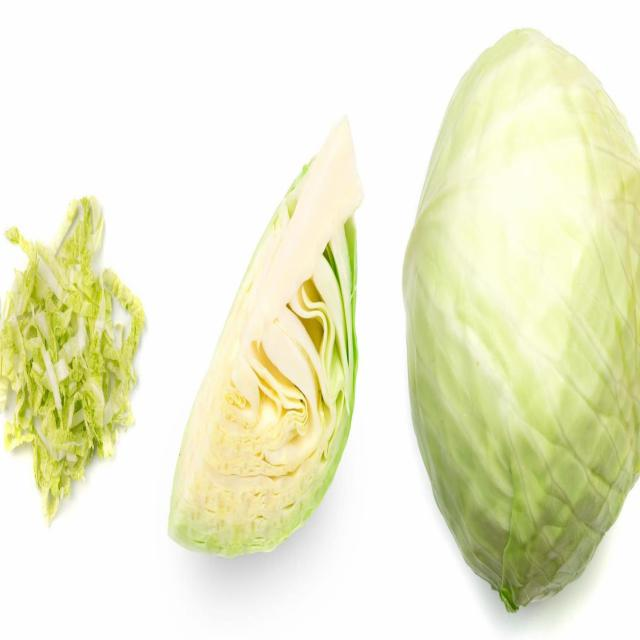cabbage: (400, 18, 639, 613), (163, 103, 371, 556), (0, 179, 167, 527)
